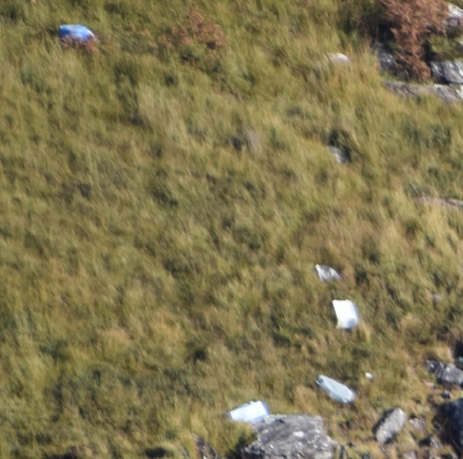scattered_barrel: (220, 258, 366, 422)
white_in_green: (30, 1, 125, 66)
